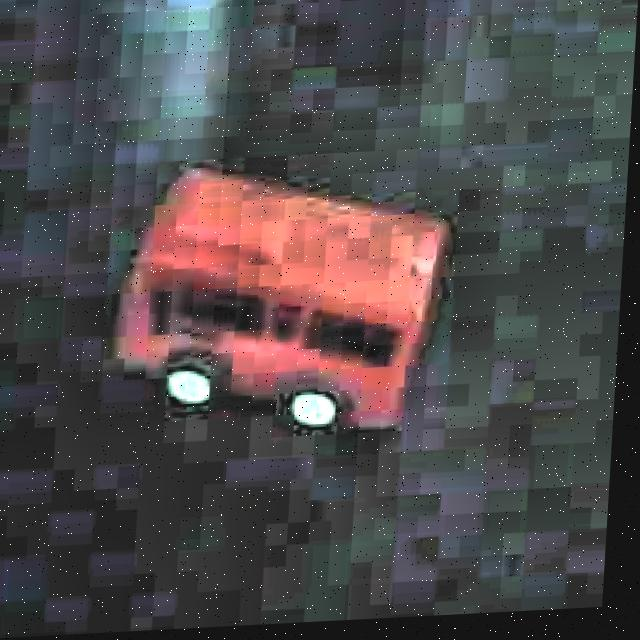bus: (99, 148, 465, 458)
